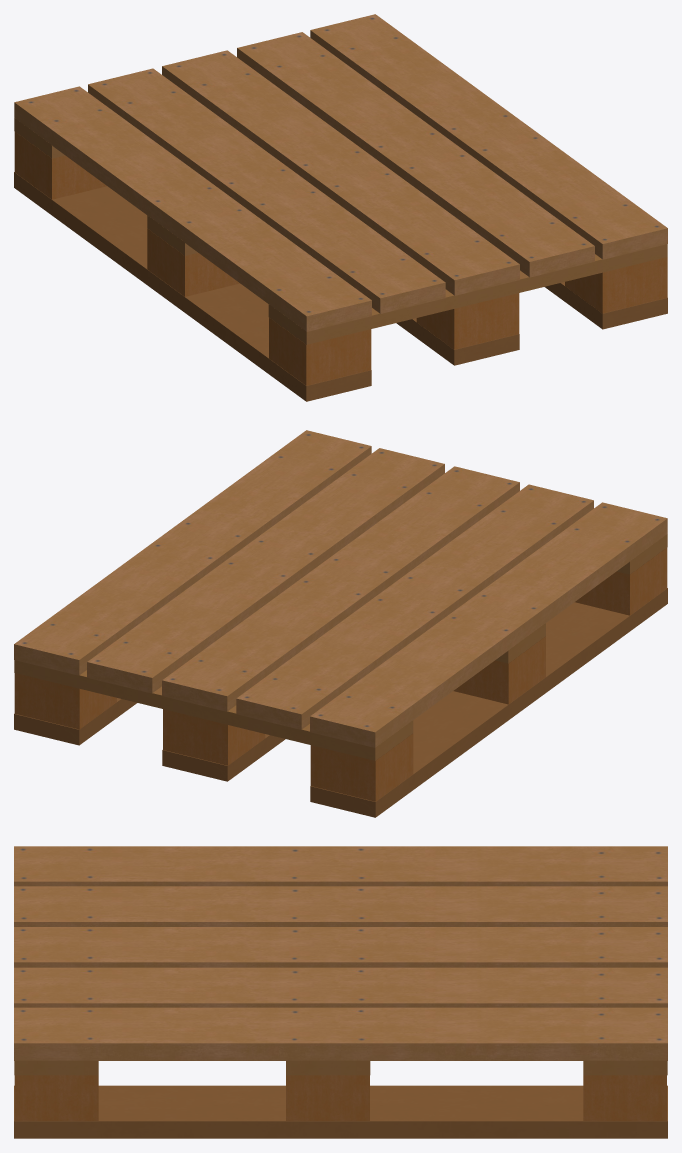
3 renders of one model, top to bottom at view 1: azimuth 30°, elevation 25°; view 2: azimuth 150°, elevation 25°; view 3: azimuth 270°, elevation 25°, orthographic. The views are drawn at different scales.
Visible parts, largest first — view 1: Tabua_superior6.001; view 2: Tabua_superior6.001; view 3: Tabua_superior6.001.
Part boxes in pixels (bbox=[...]): Tabua_superior6.001: bbox=[14, 14, 667, 401]; Tabua_superior6.001: bbox=[14, 430, 667, 817]; Tabua_superior6.001: bbox=[14, 846, 667, 1138].
Bounding box in the file's own units: 5.54 × 1.25 × 7.76.
Materials: 4 (4 with a texture image).
